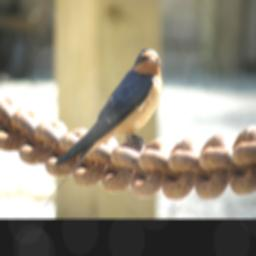Swallow: (39, 48, 164, 212)
